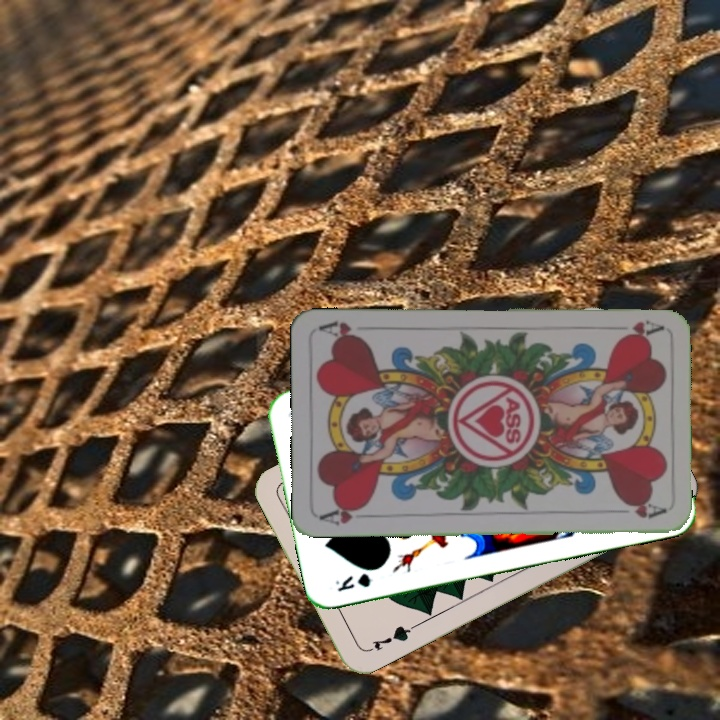G7: (361, 621, 416, 655)
GK: (332, 569, 374, 594)
HA: (317, 501, 376, 528), (605, 315, 664, 341)
